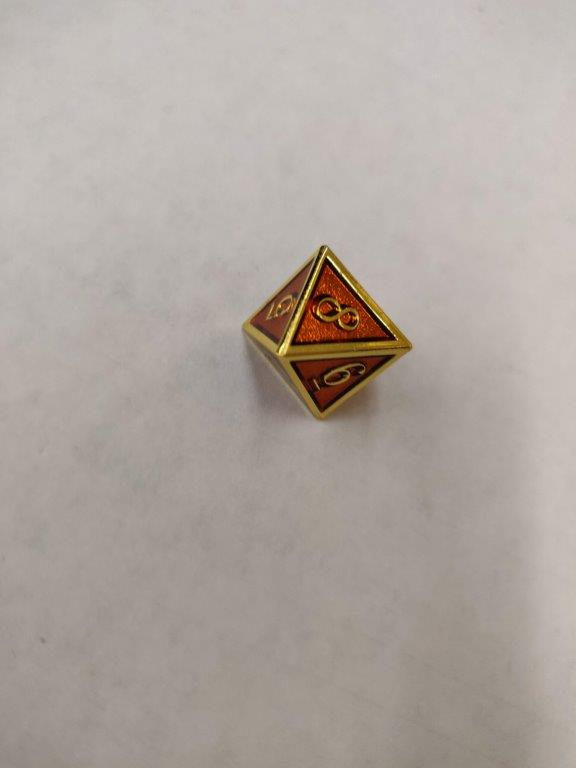d8-8: (242, 241, 404, 424)
